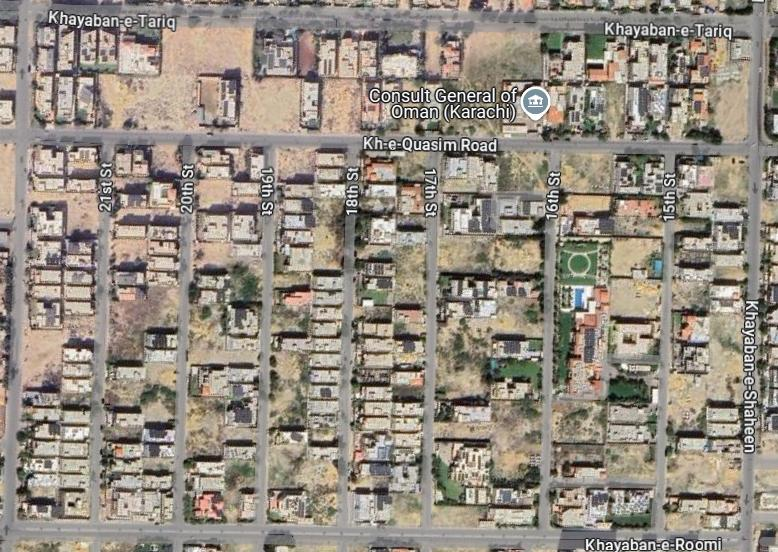Buildings: (33, 20, 750, 143), (435, 151, 550, 528), (554, 152, 664, 526), (668, 155, 750, 530), (182, 150, 264, 524), (22, 146, 101, 520), (104, 147, 181, 518), (351, 151, 427, 524), (269, 148, 343, 522)
